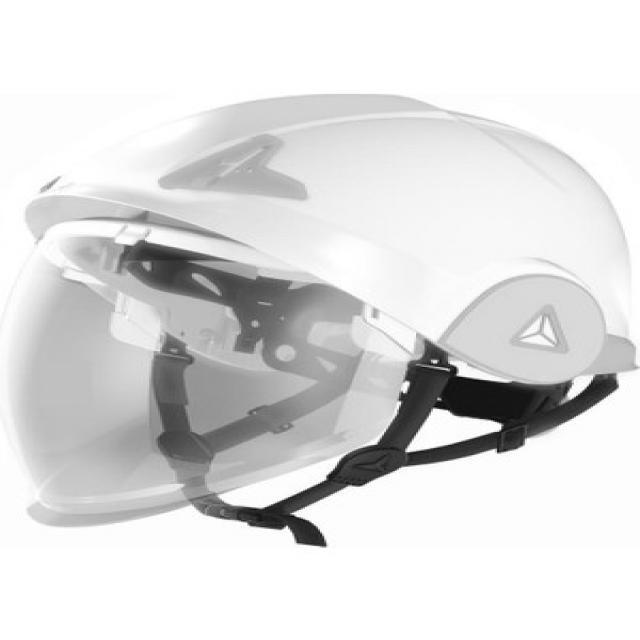safety_helmet: (23, 94, 640, 432)
